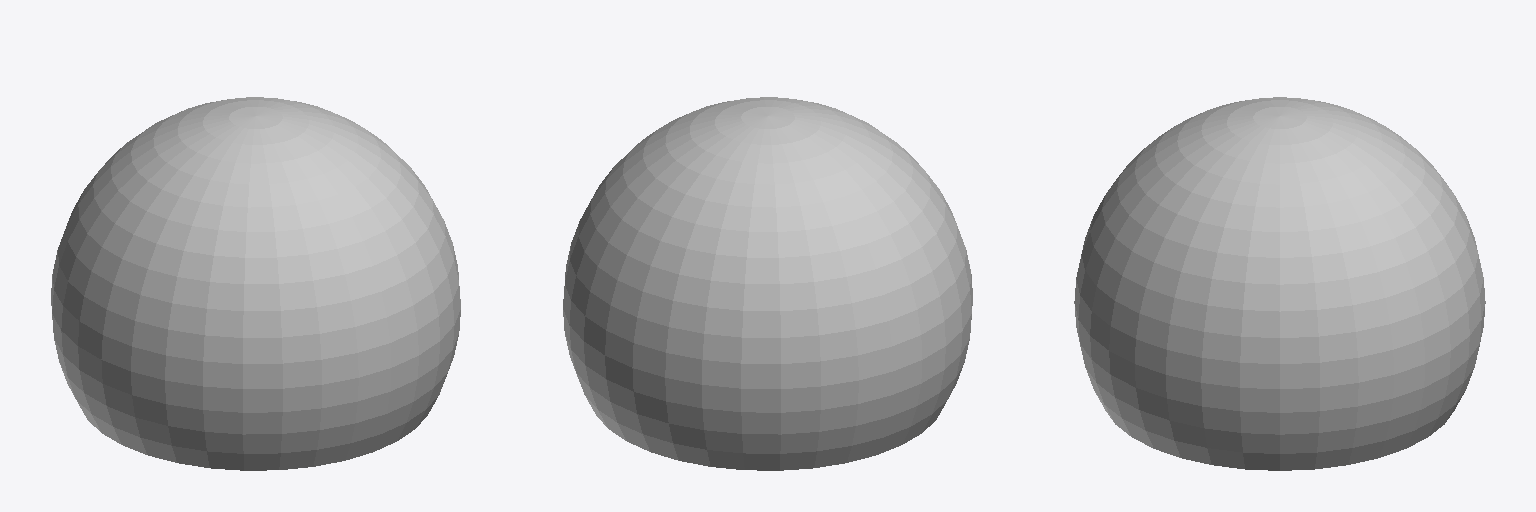
The model's file is skydome-uvsphere.obj.
3 views of the same model, side by side, from view 1: azimuth 30°, elevation 25°; view 2: azimuth 150°, elevation 25°; view 3: azimuth 270°, elevation 25° (orthographic).
Parts seen in each view (by area): view 1: skydome_Sphere; view 2: skydome_Sphere; view 3: skydome_Sphere.
Part boxes in pixels (bbox=[...]): skydome_Sphere: bbox=[51, 97, 460, 470]; skydome_Sphere: bbox=[563, 97, 972, 470]; skydome_Sphere: bbox=[1074, 97, 1485, 470].
Size of the model in its own units: 2 by 1.5 by 2.